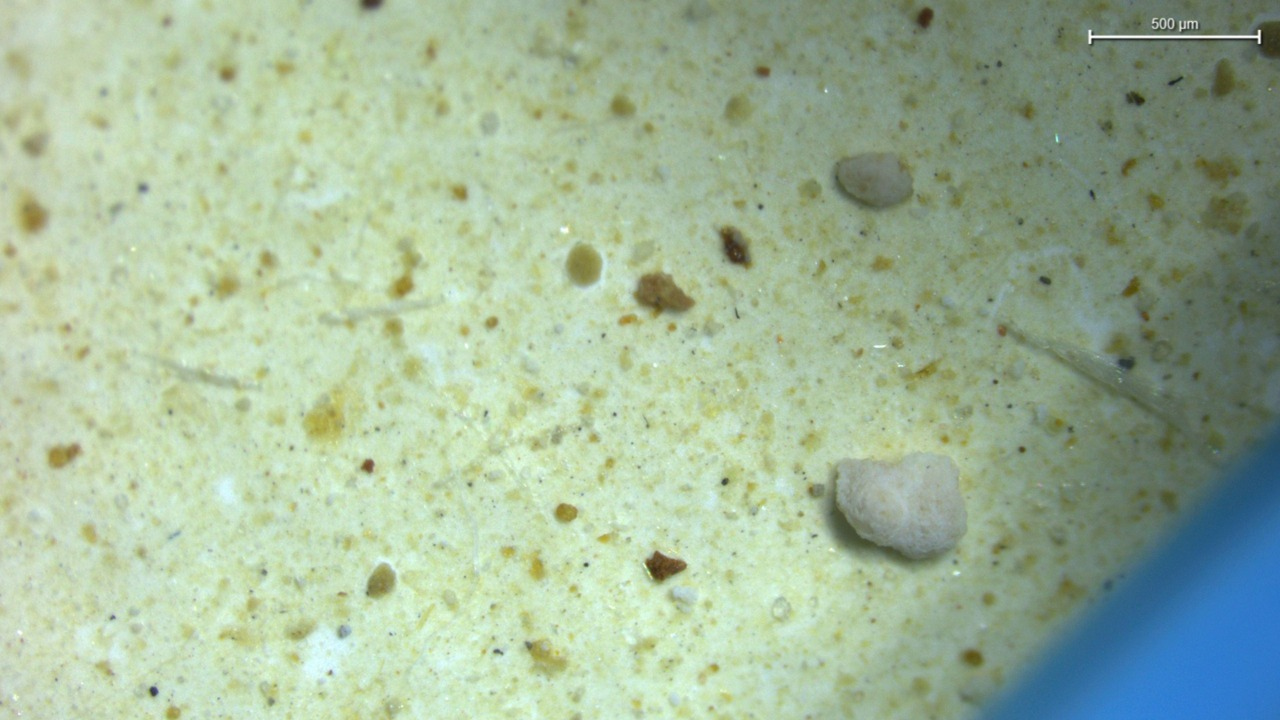microplastic_fragment: (835, 453, 966, 559), (835, 153, 912, 207)
